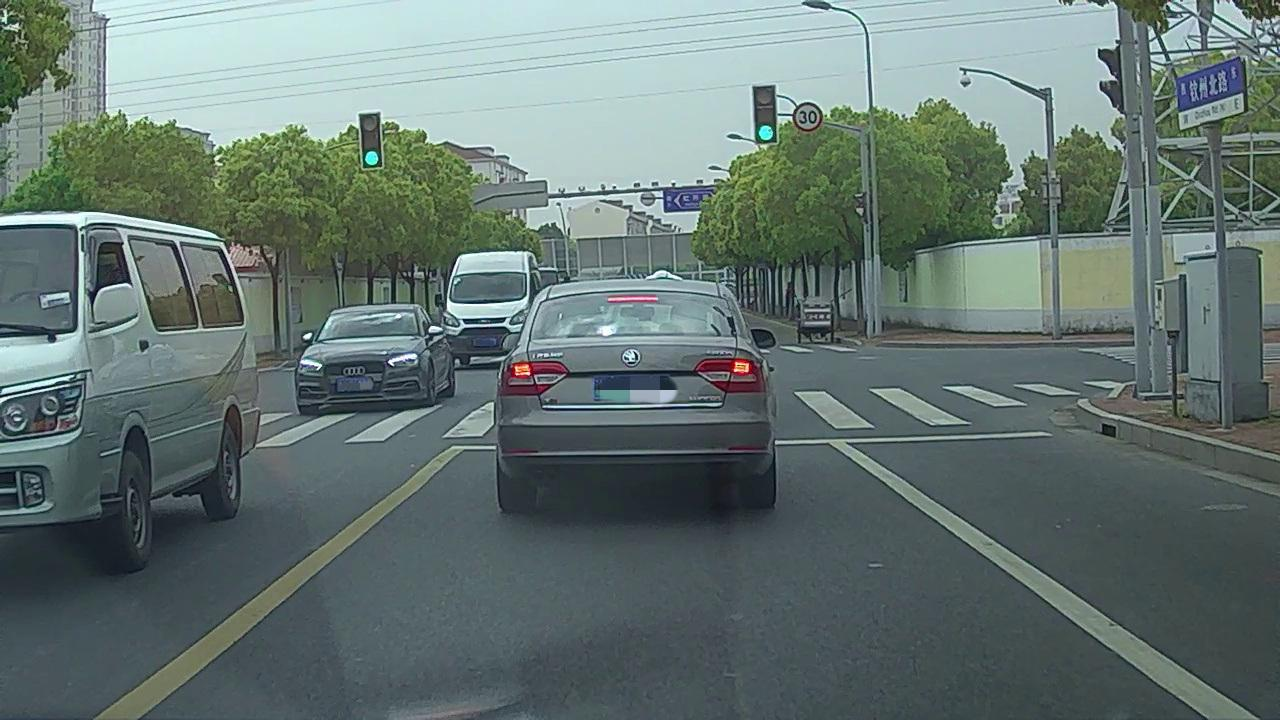traffic_light: (754, 86, 777, 142), (359, 113, 382, 168)
